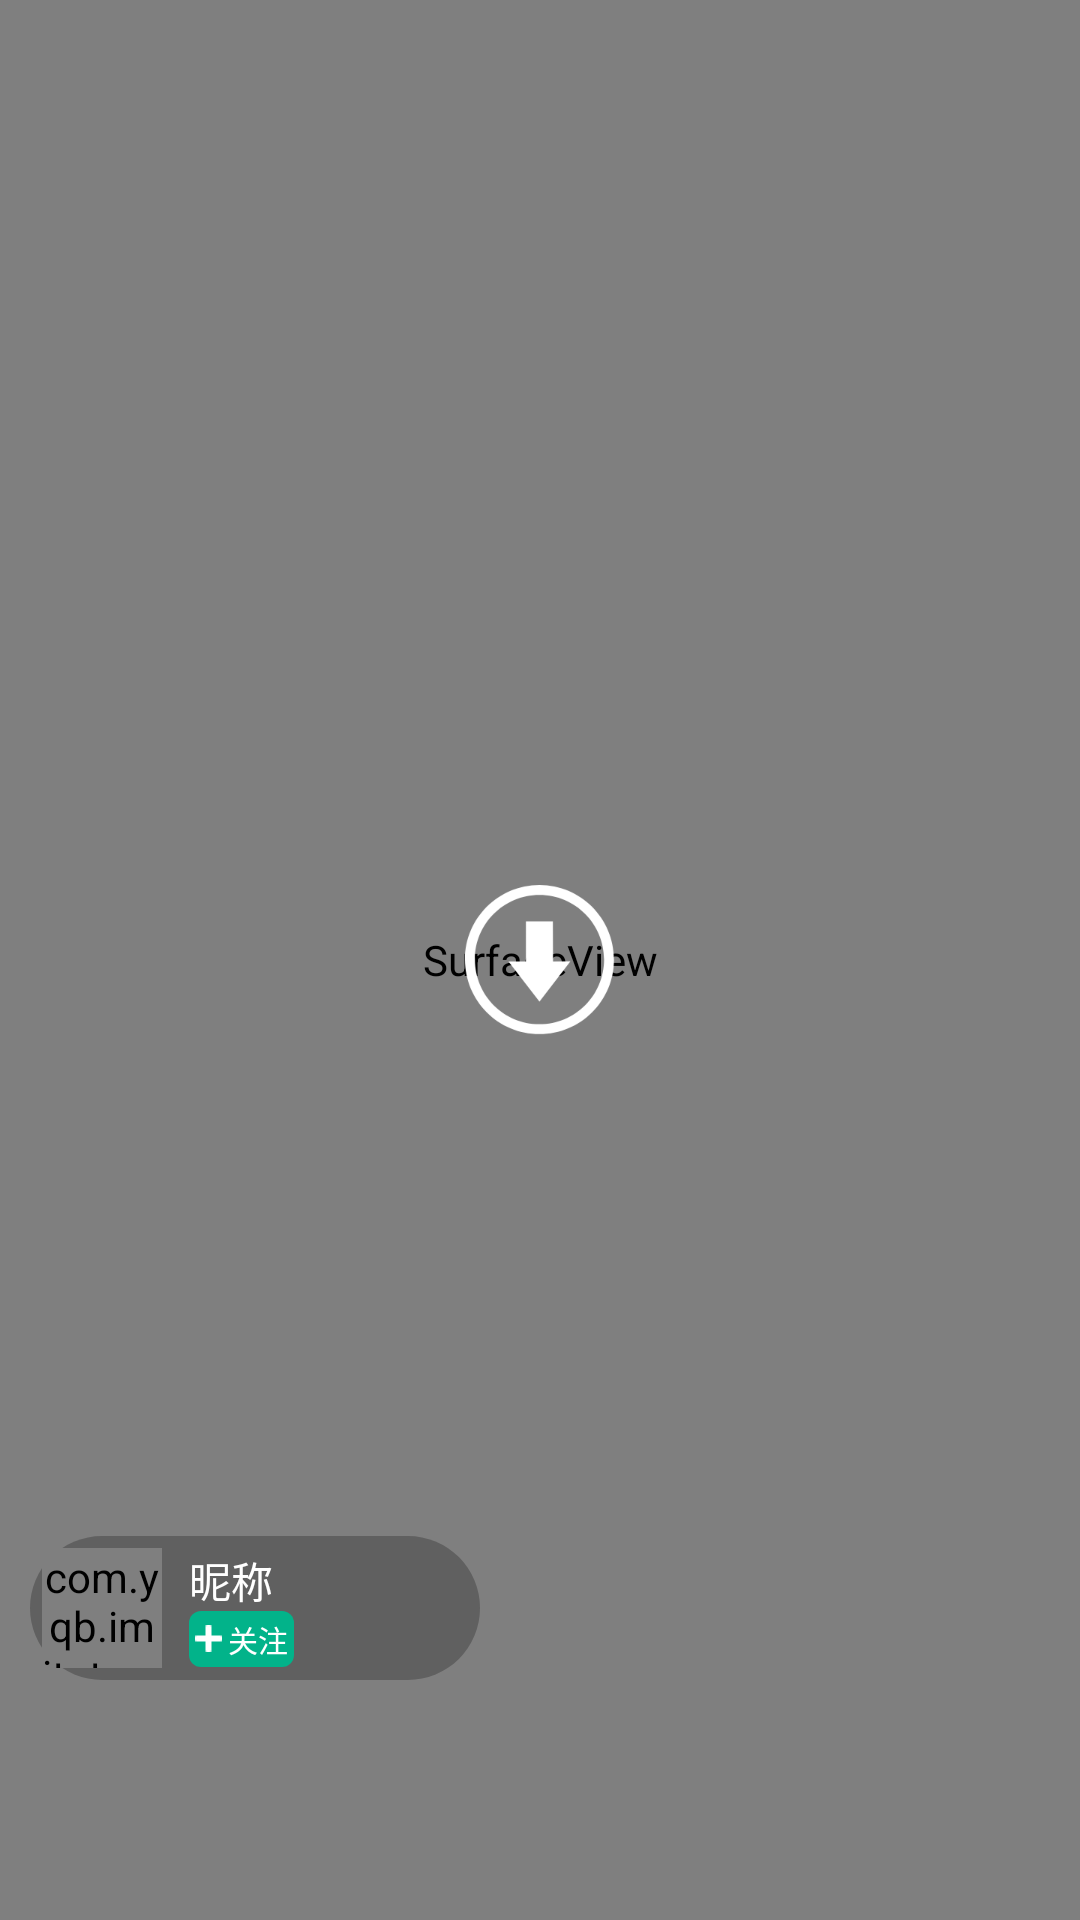

Icon click points for this 1080×1920 phone screenshot, format (x,y):
video download: (540,959)
